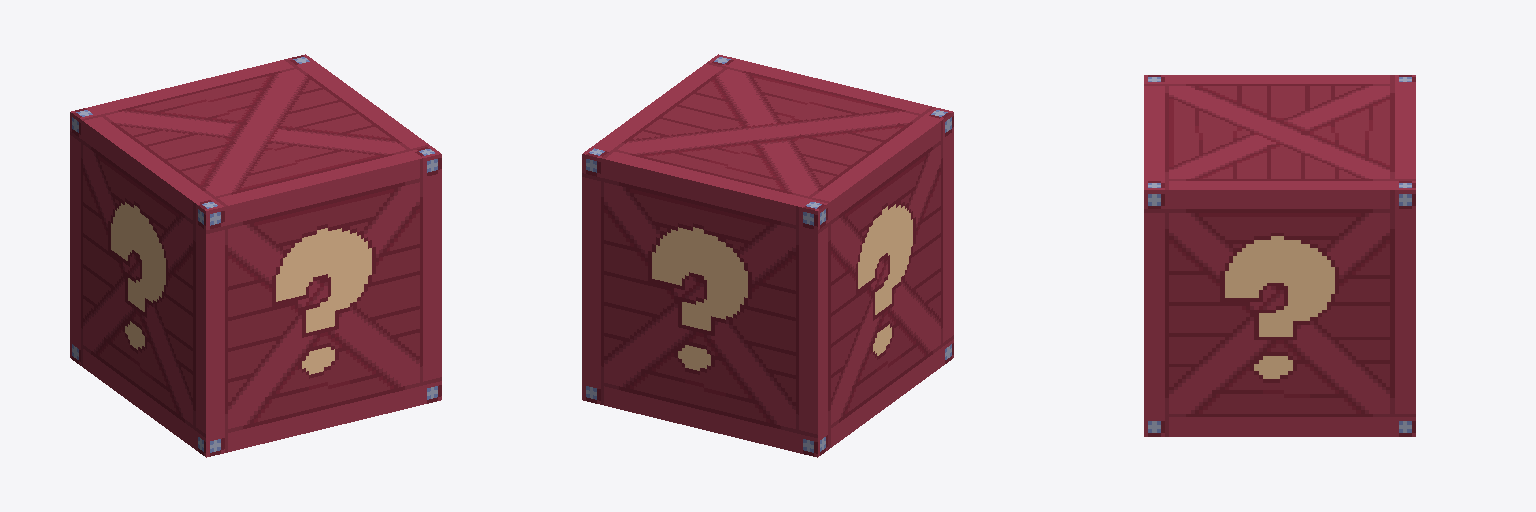
The picture shows the model from 3 angles: view 1: azimuth 30°, elevation 25°; view 2: azimuth 150°, elevation 25°; view 3: azimuth 270°, elevation 25°; orthographic projection.
Parts seen in each view (by area): view 1: Cube; view 2: Cube; view 3: Cube.
Part boxes in pixels (bbox=[...]): Cube: bbox=[70, 54, 441, 457]; Cube: bbox=[582, 54, 953, 457]; Cube: bbox=[1144, 75, 1415, 436].
Bounding box in the file's own units: 3.24 × 3.24 × 3.24.
1 materials, 1 textured.